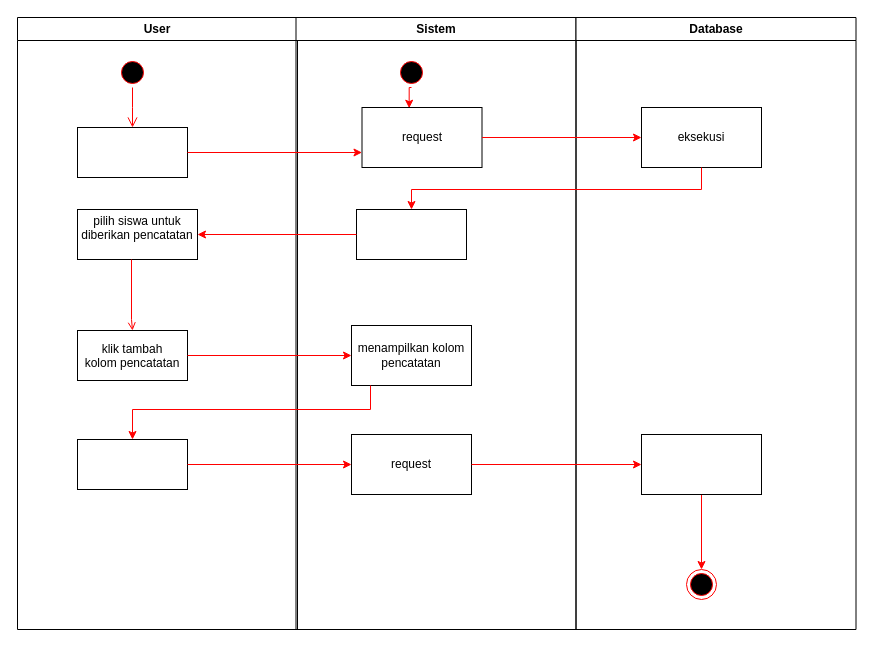
The diagram is 874 pixels wide and 647 high, and some of its shapes have lost their labels. Here are the shapes that lost their labels. From the top down, the centre of each, then its label:
the point at 132,152: pilih menu pencatatan siswa
the point at 411,234: menampilkan pencatatan siswa
the point at 132,464: tulis pencatatan
the point at 701,464: simpan pencatatan siswa
